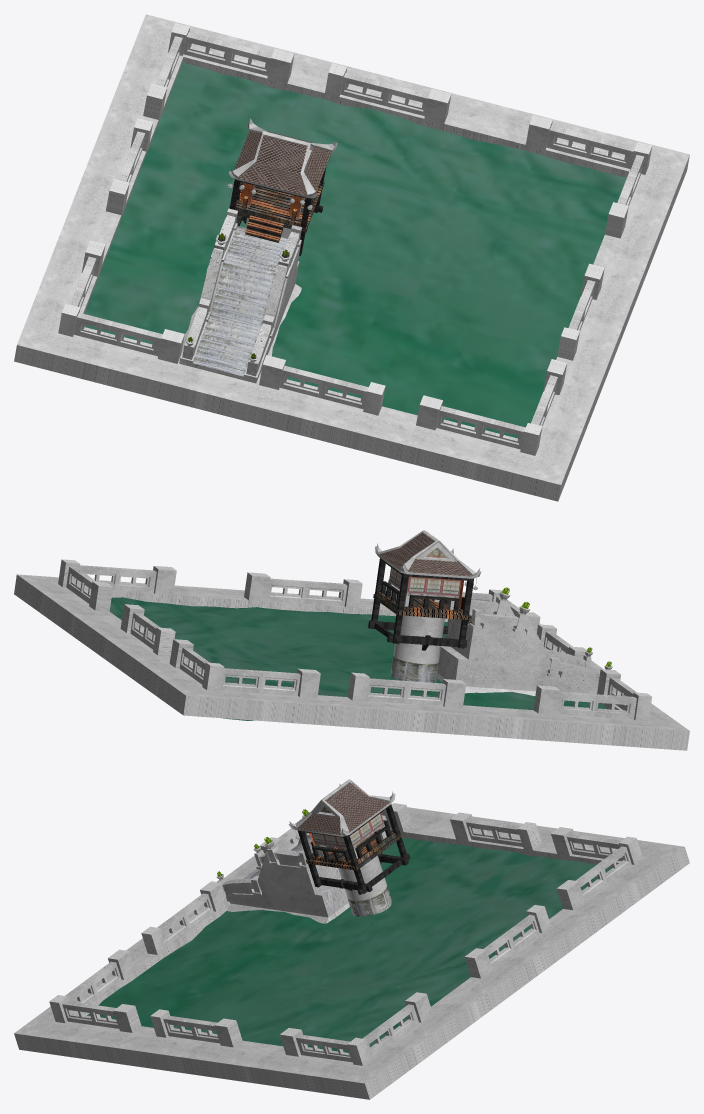
Rendered from Vietnamese_Buddhist_Temple.gltf.
3 views of the same model, one above another, from view 1: azimuth 30°, elevation 25°; view 2: azimuth 150°, elevation 25°; view 3: azimuth 270°, elevation 25° (orthographic). The views are drawn at different scales.
Visible parts, largest first — view 1: Water, WalkWay_BhuddahTemple_Mat_0, Staircase_BhuddahTemple_Mat_0, TempleRoof_BhuddahTemple_Mat_0, Temple_BhuddahTemple_Mat_0; view 2: WalkWay_BhuddahTemple_Mat_0, Water, Staircase_BhuddahTemple_Mat_0, Temple_BhuddahTemple_Mat_0, TempleRoof_BhuddahTemple_Mat_0, Cylinder001_BhuddahTemple_Mat_0; view 3: WalkWay_BhuddahTemple_Mat_0, Water, Staircase_BhuddahTemple_Mat_0, Temple_BhuddahTemple_Mat_0, TempleRoof_BhuddahTemple_Mat_0, Cylinder001_BhuddahTemple_Mat_0.
Boxes of the visible parts, bbox=[...] form: Water: bbox=[84, 62, 626, 438]; WalkWay_BhuddahTemple_Mat_0: bbox=[14, 14, 689, 501]; Staircase_BhuddahTemple_Mat_0: bbox=[179, 208, 302, 383]; TempleRoof_BhuddahTemple_Mat_0: bbox=[229, 118, 337, 198]; Temple_BhuddahTemple_Mat_0: bbox=[229, 167, 326, 255]; WalkWay_BhuddahTemple_Mat_0: bbox=[14, 559, 689, 750]; Water: bbox=[109, 597, 607, 720]; Staircase_BhuddahTemple_Mat_0: bbox=[436, 598, 599, 695]; Temple_BhuddahTemple_Mat_0: bbox=[368, 558, 474, 650]; TempleRoof_BhuddahTemple_Mat_0: bbox=[375, 530, 481, 578]; Cylinder001_BhuddahTemple_Mat_0: bbox=[390, 615, 444, 682]; WalkWay_BhuddahTemple_Mat_0: bbox=[14, 803, 689, 1099]; Water: bbox=[87, 837, 612, 1052]; Staircase_BhuddahTemple_Mat_0: bbox=[217, 832, 349, 923]; Temple_BhuddahTemple_Mat_0: bbox=[298, 804, 410, 894]; TempleRoof_BhuddahTemple_Mat_0: bbox=[288, 779, 395, 836]; Cylinder001_BhuddahTemple_Mat_0: bbox=[338, 855, 392, 916].
Size of the model in its own units: 494 by 176 by 479.
6 materials, 3 textured.
